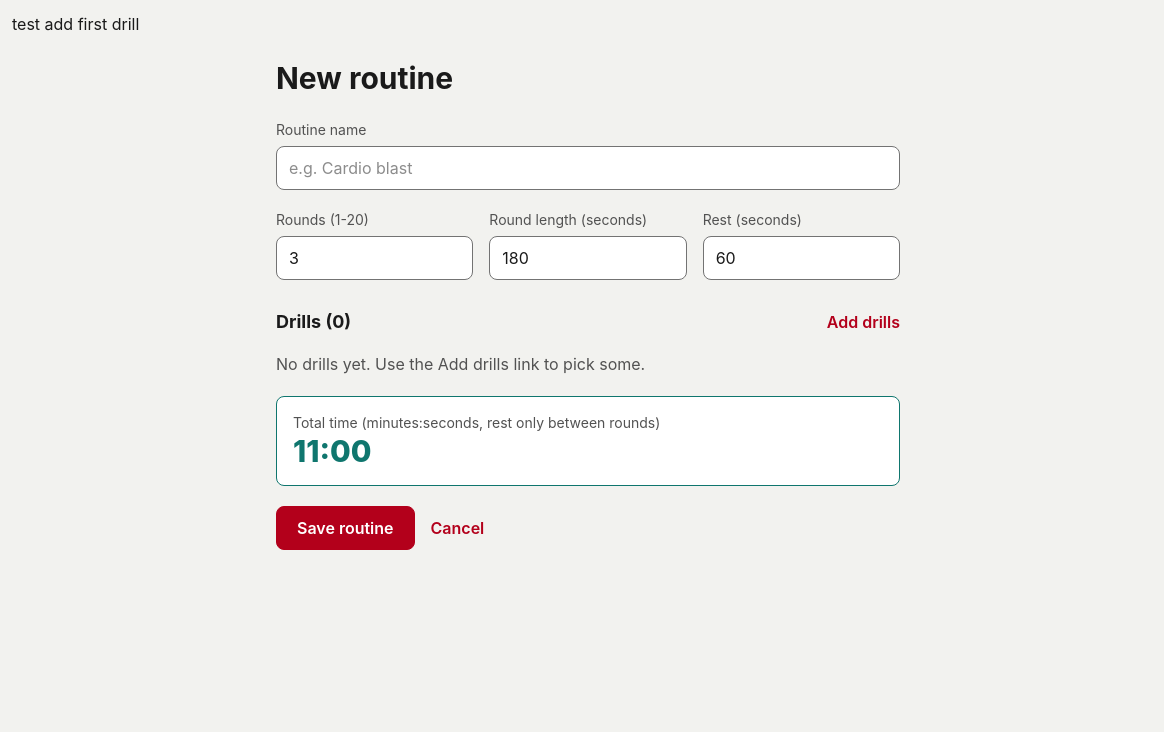
Test: RoutineForm (new routine) › rejects a number of rounds outside 1 to 20
Replace the text in the number field labelled "Rounds (1-20)" with "25" at (375, 258), box x1=276 y1=236 x2=473 y2=280
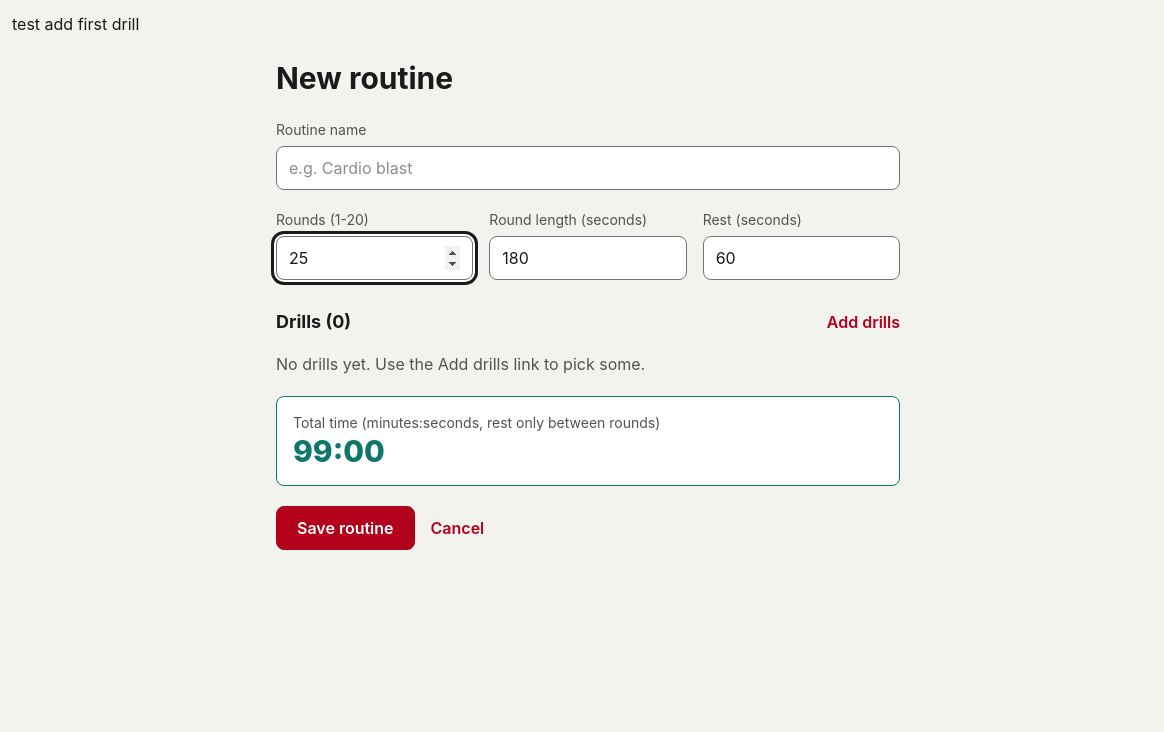
Click the button "Save routine".
click(345, 528)  # box x1=276 y1=506 x2=414 y2=550
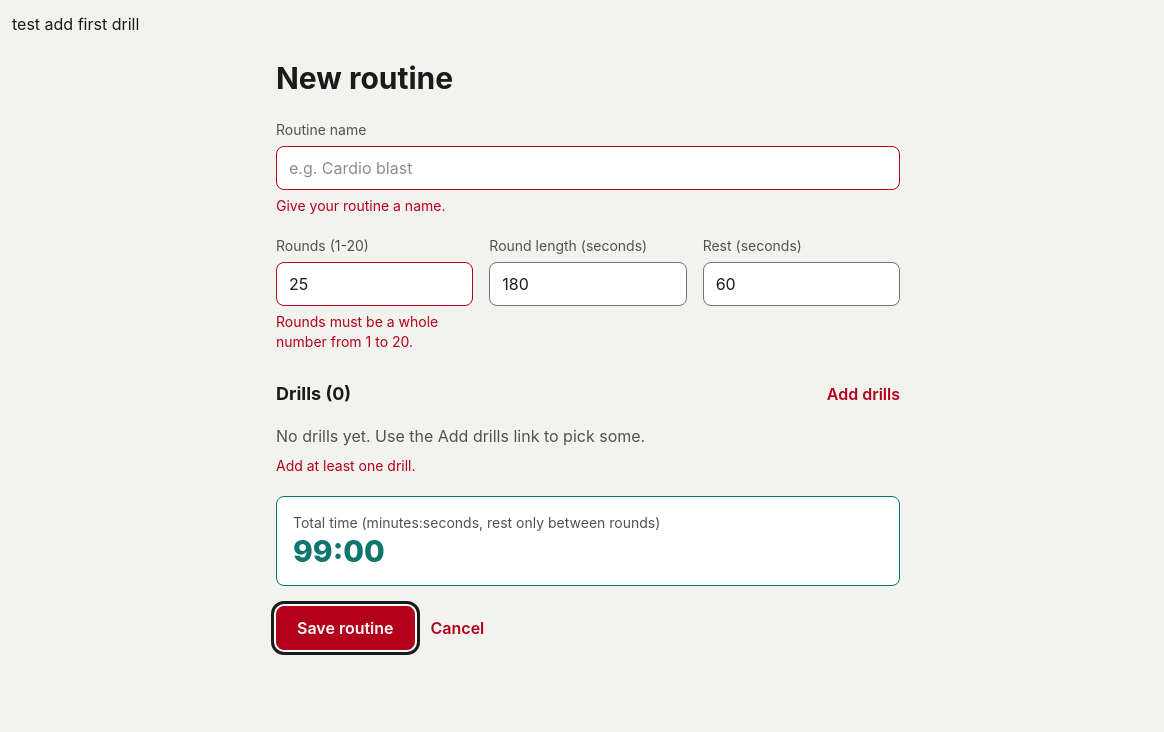
Check: the text "Rounds must be a whole number from 1 to 20." is shown, box x1=276 y1=313 x2=438 y2=350
